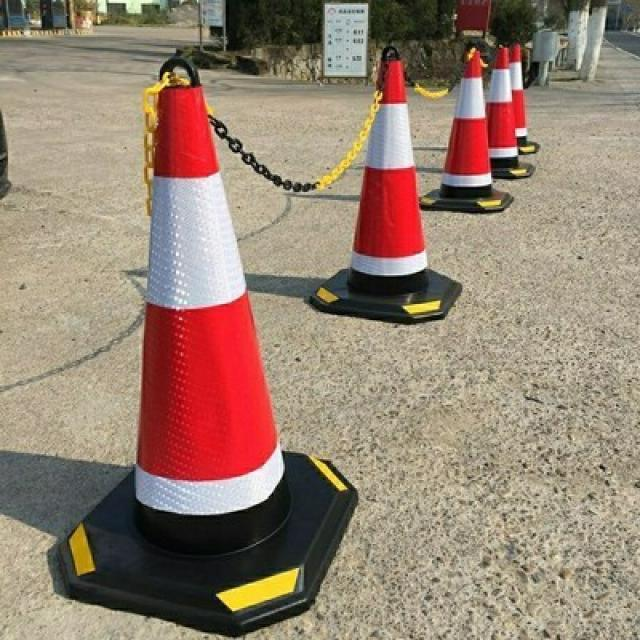reflective_cone: (52, 51, 362, 632), (310, 46, 464, 322), (421, 38, 514, 210), (486, 41, 534, 178)
